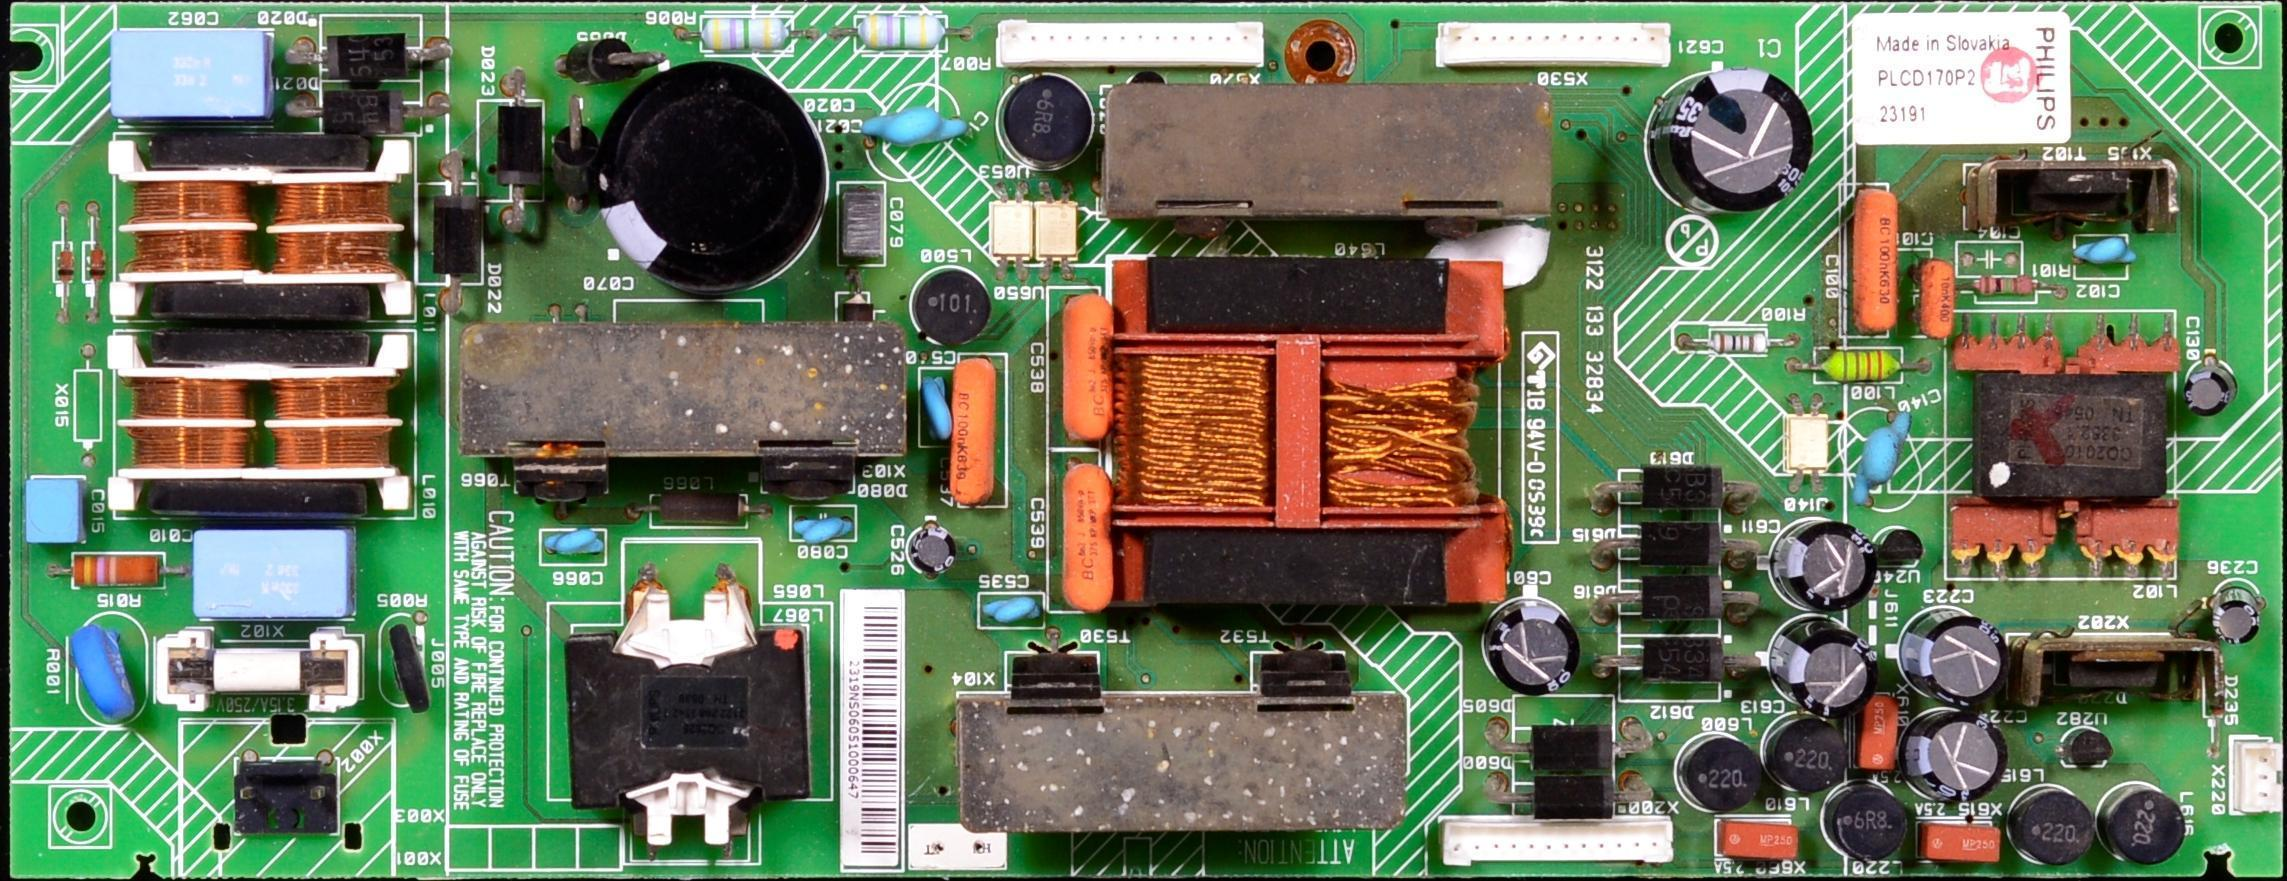Capacitor: (1673, 64, 1810, 220), (109, 26, 259, 114), (1059, 464, 1121, 612), (1497, 602, 1582, 710), (1913, 704, 2006, 796), (1915, 616, 2012, 702), (1065, 284, 1113, 440), (1787, 524, 1874, 608), (1799, 634, 1876, 716), (865, 106, 965, 152), (1846, 420, 1902, 494), (29, 478, 77, 548), (841, 190, 887, 264), (785, 512, 865, 548), (2065, 230, 2134, 270), (921, 364, 953, 446), (917, 516, 955, 584), (547, 524, 609, 562), (2213, 598, 2258, 648), (983, 600, 1041, 624), (2195, 370, 2224, 412)
Resistor: (73, 628, 137, 732), (849, 4, 961, 56), (703, 18, 795, 58), (75, 548, 165, 590), (1665, 330, 1774, 360)
